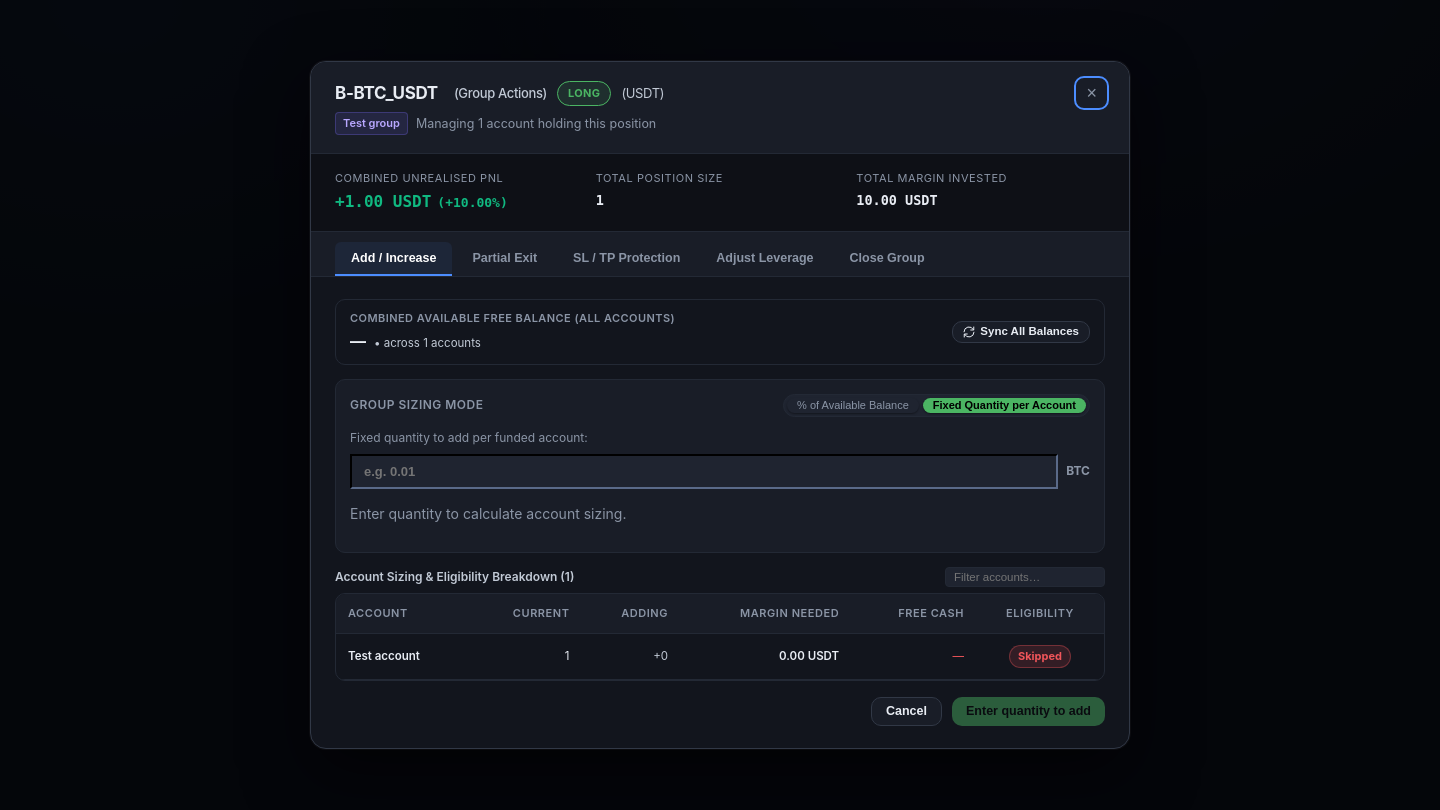
Test case: ROE display and management › does not enable trailing when the venue refused the underlying stop
The width and height of the screenshot is (1440, 810).
Click the button "SL / TP Protection". click: [627, 259]
box: x1=557 y1=242 x2=696 y2=276
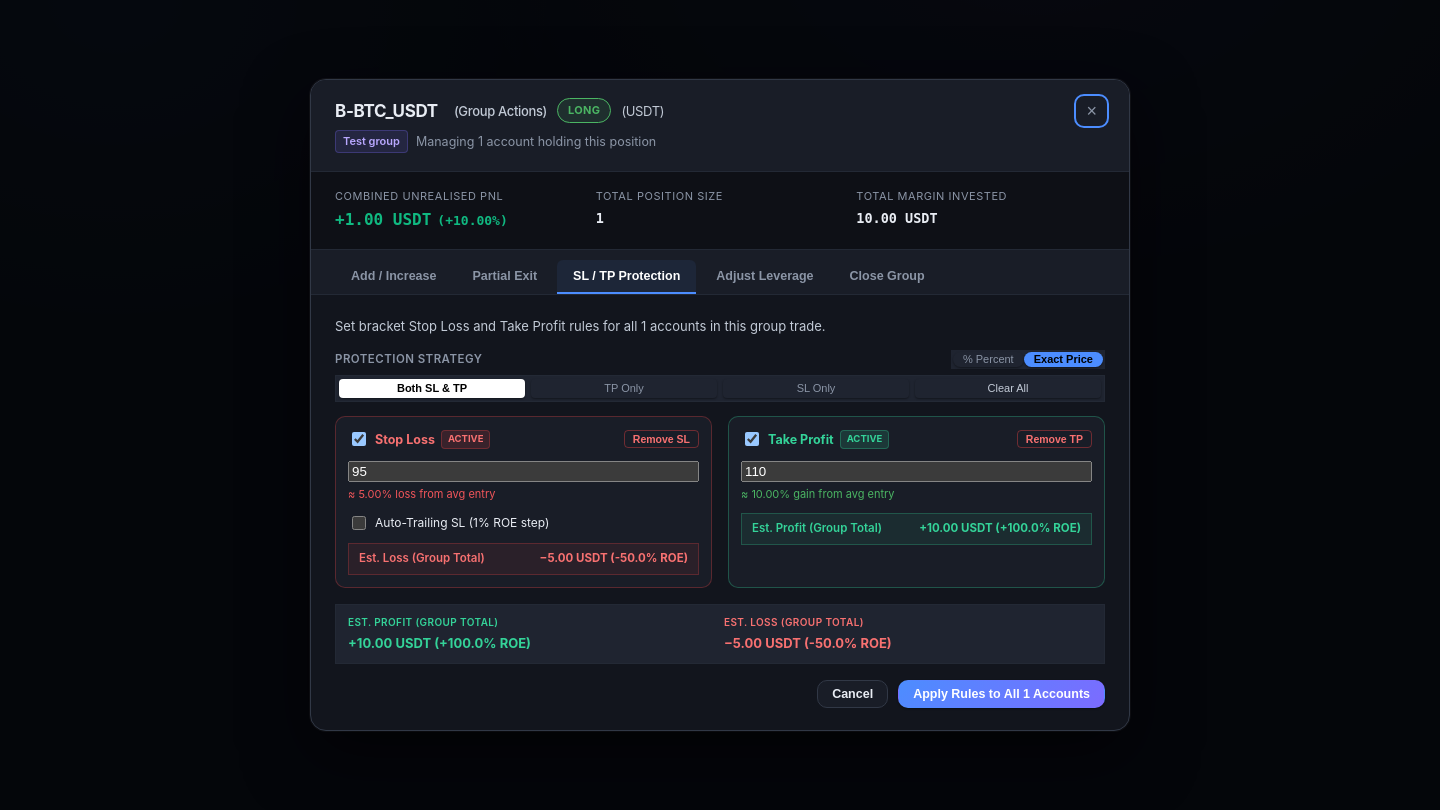
Check: the text "Auto-Trailing SL (1% ROE step)" is shown, box x1=375 y1=514 x2=549 y2=533
Click the checkbox with id "grp-trailing". click: [359, 523]
box: x1=352 y1=516 x2=366 y2=530
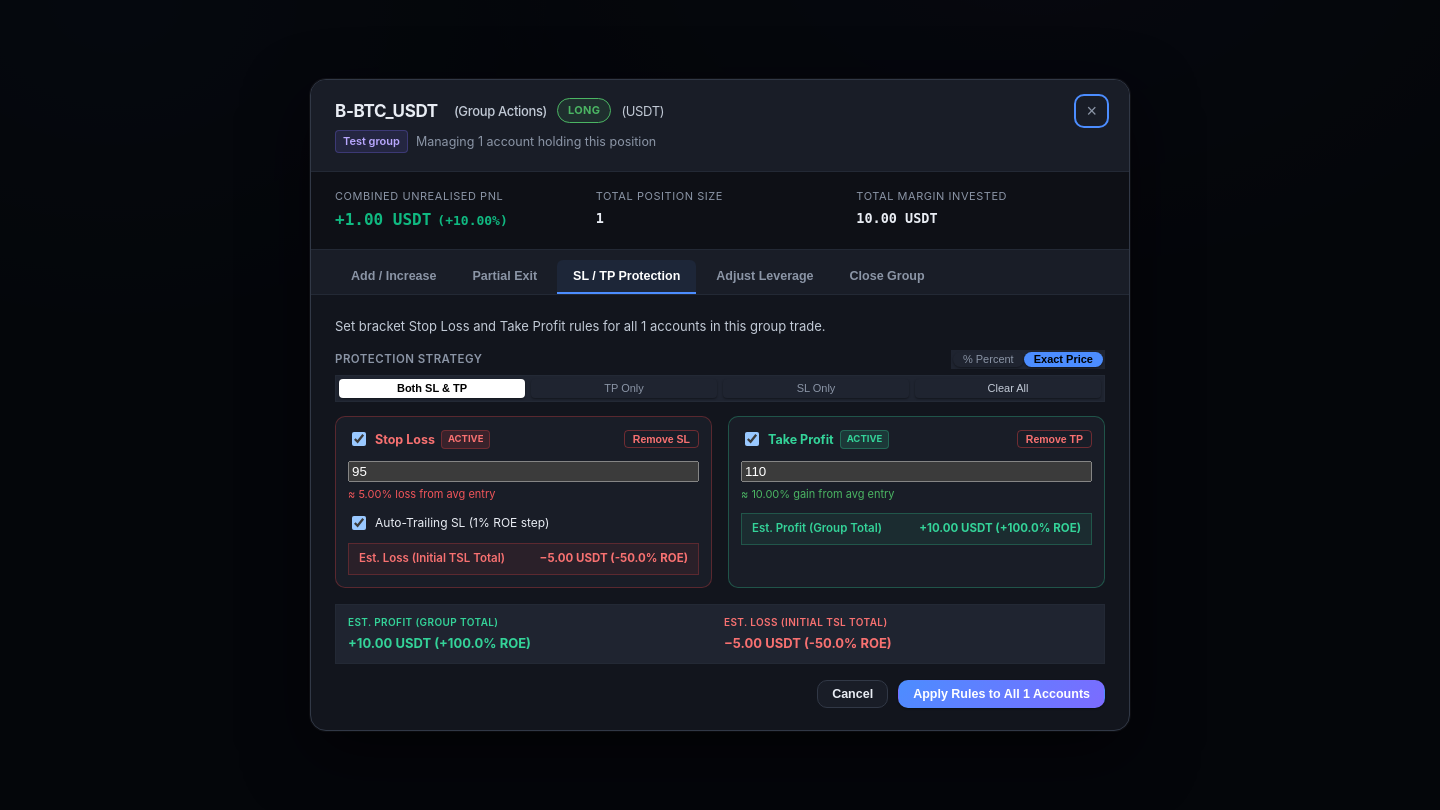
Click the button "Apply Rules to All 1 Accounts". click: [1002, 694]
box: x1=898 y1=680 x2=1105 y2=708
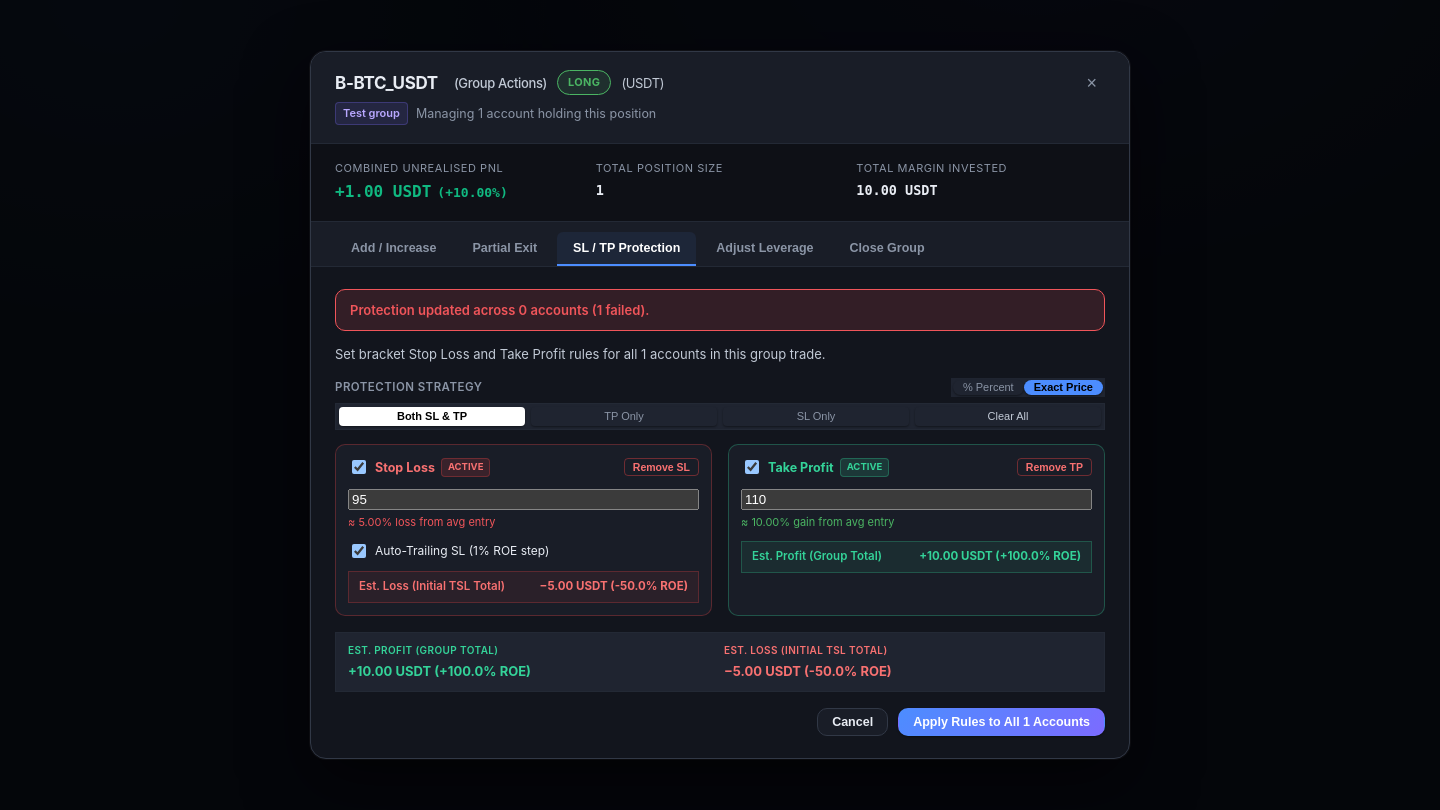
Check: the text "1 failed" is shown, box x1=350 y1=302 x2=650 y2=318
